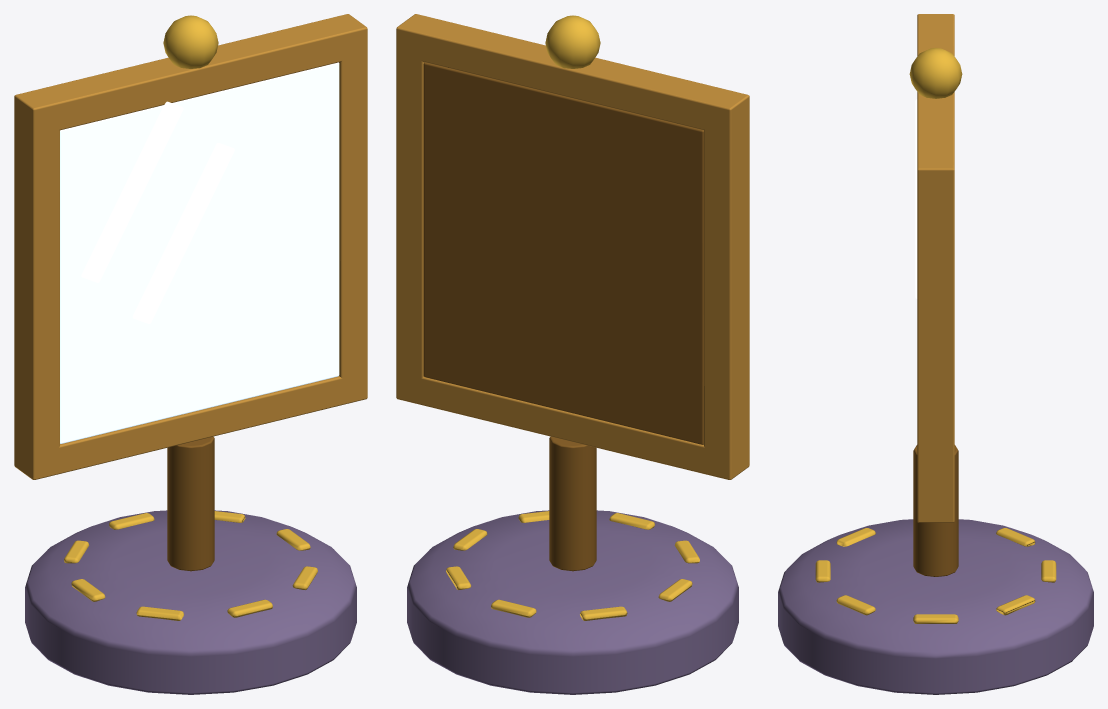
Rendered from espelho.glb.
3 views of the same model, side by side, from view 1: azimuth 30°, elevation 25°; view 2: azimuth 150°, elevation 25°; view 3: azimuth 270°, elevation 25° (orthographic). The views are drawn at different scales.
Parts seen in each view (by area): view 1: Moldura, Base; view 2: Moldura, Base; view 3: Base, Moldura.
Boxes of the visible parts, x1,y1,x2,y2 form: Moldura: (14, 14, 367, 571); Base: (25, 510, 356, 694); Moldura: (396, 14, 749, 571); Base: (407, 510, 738, 694); Base: (778, 519, 1093, 694); Moldura: (909, 14, 962, 576).
Bounding box in the file's own units: 0.98 × 1.7 × 0.84.
